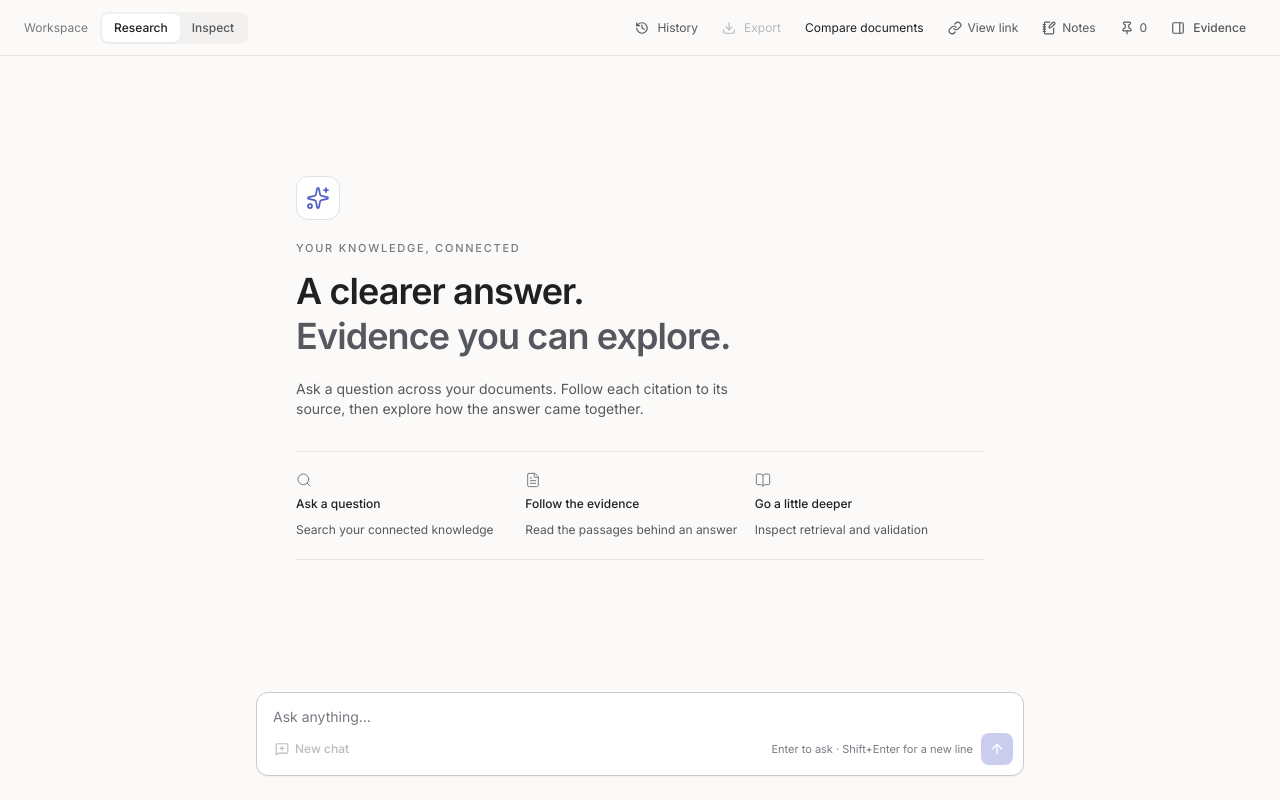
Scenario: Playground evidence flow › opens the evidence belonging to an earlier answer after a follow-up
This screenshot has width=1280, height=800.
In the text box named "Question": (640, 710) [257,693,1023,727], type "First question"
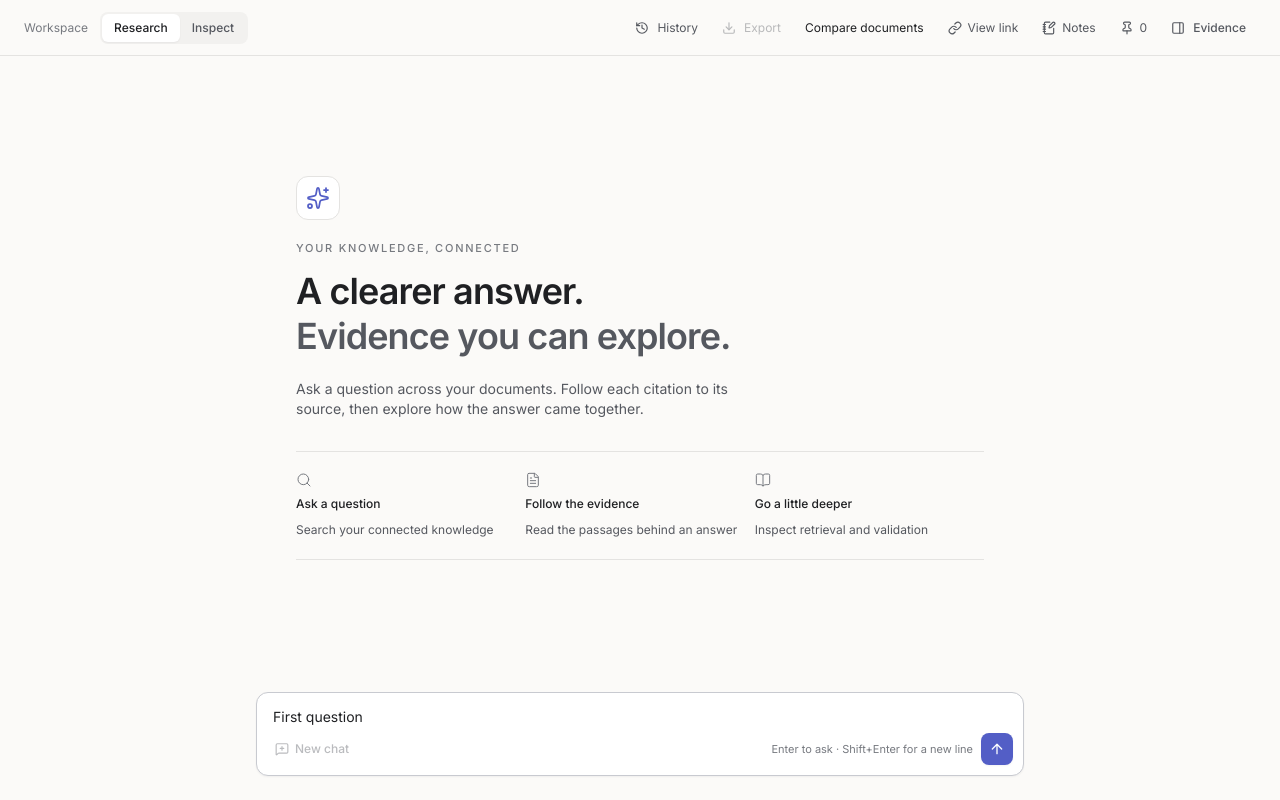
Click the button named "Ask": (997, 749) [981,733,1013,765]
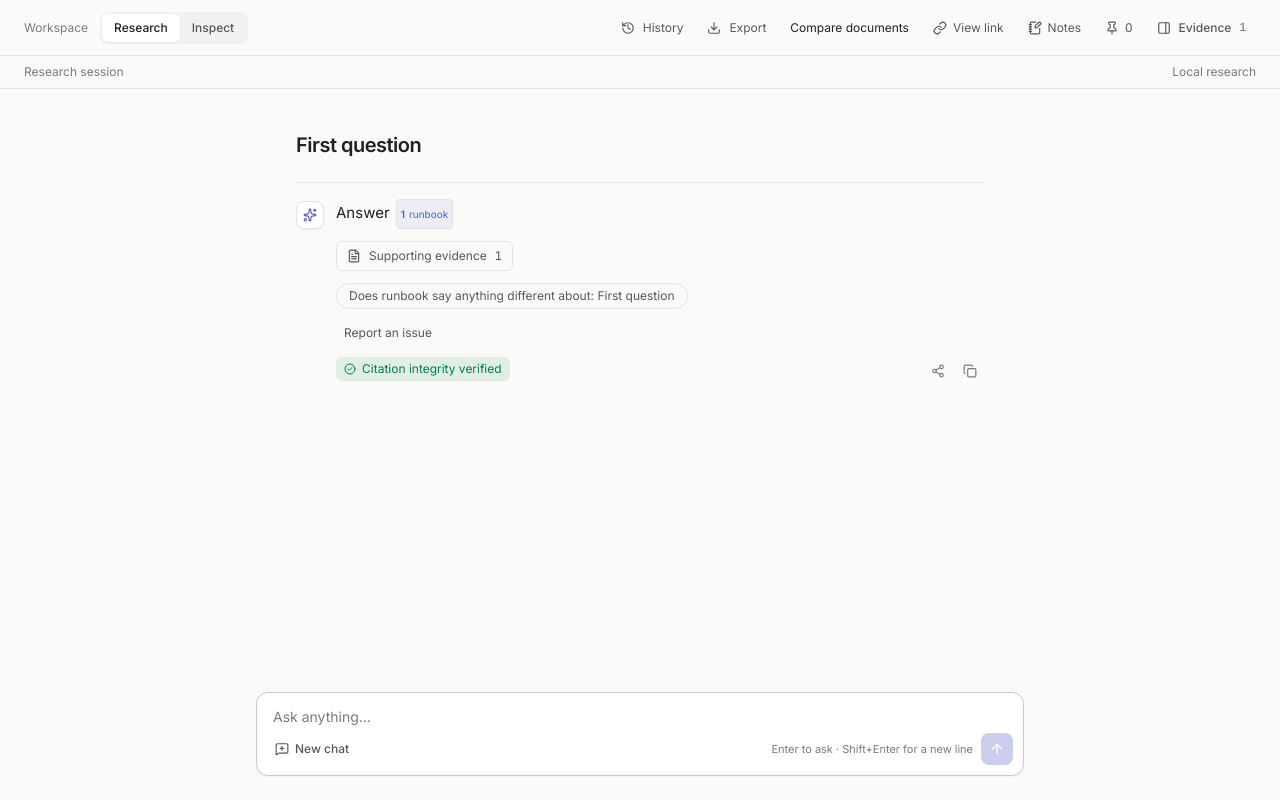
Result: the button with aria-label "Jump to source 1" is shown at [396,198,453,228]
In the text box named "Question": (640, 710) [257,693,1023,727], type "Second question"
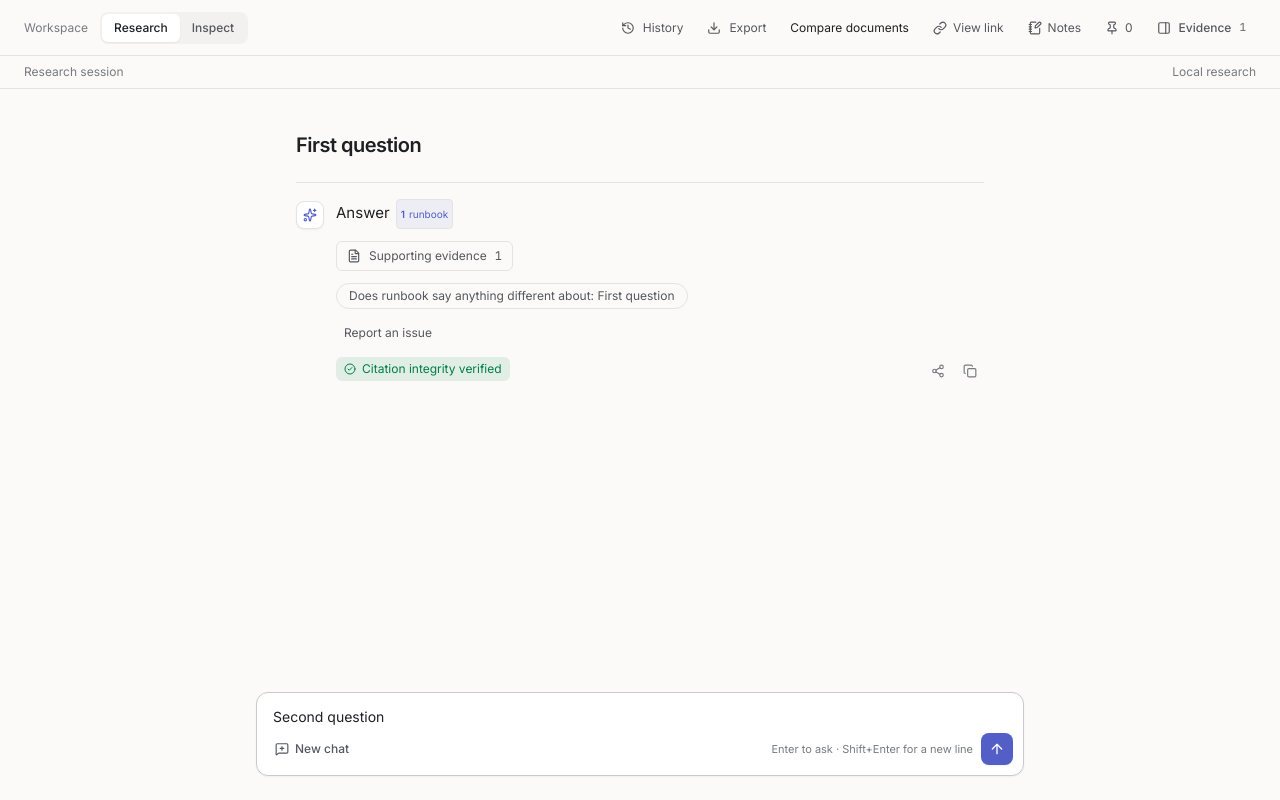
Click the button named "Ask": (997, 749) [981,733,1013,765]
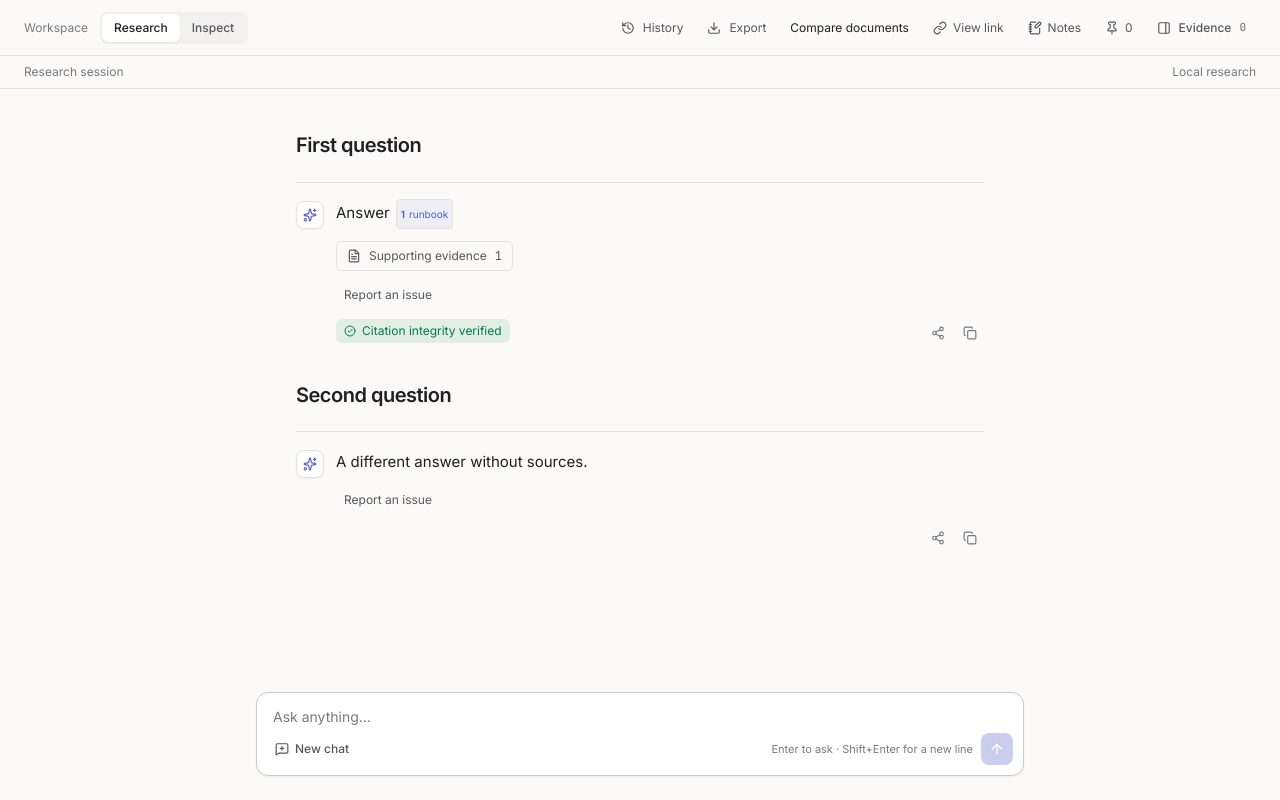
Result: the text "A different answer without sources." is shown at [336,452,588,471]
Click the button with aria-label "Jump to source 1": (424, 214) [396,198,453,228]
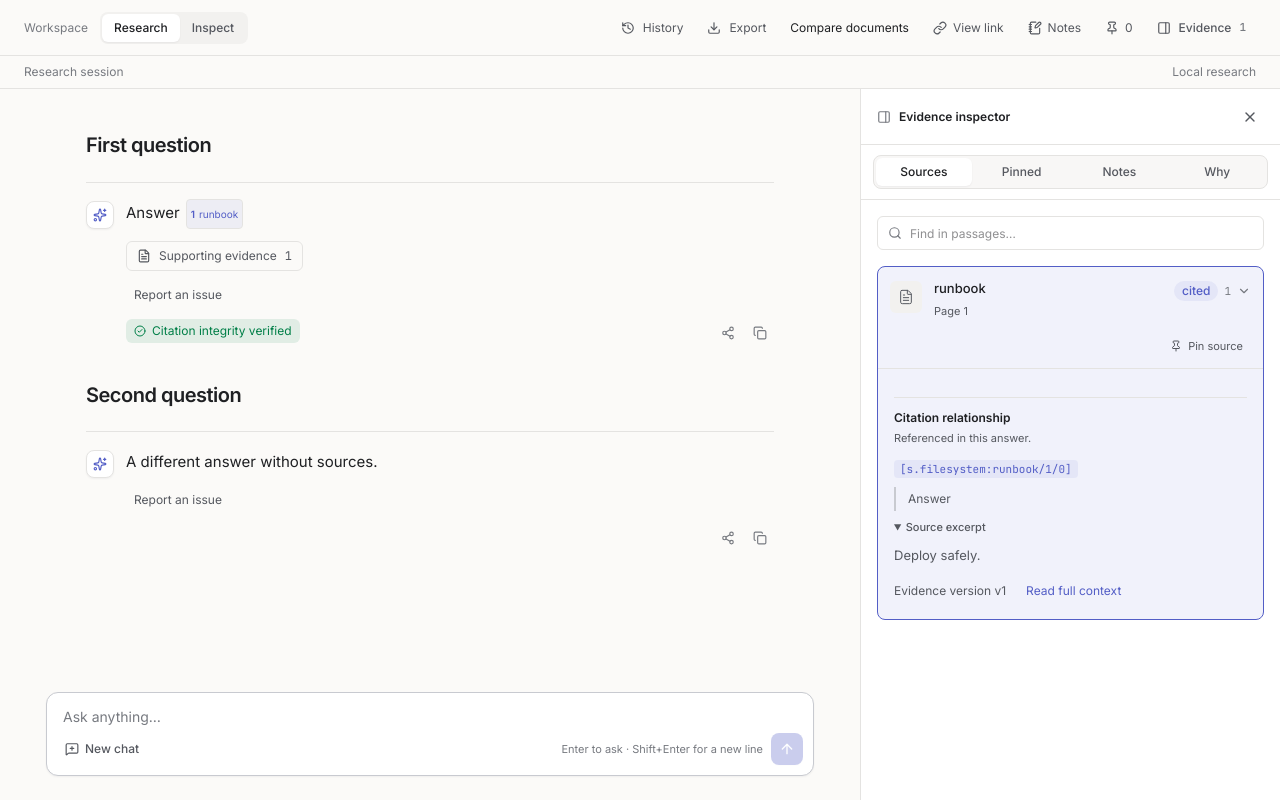
Result: the text "Deploy safely." is shown at [894,547,980,563]
